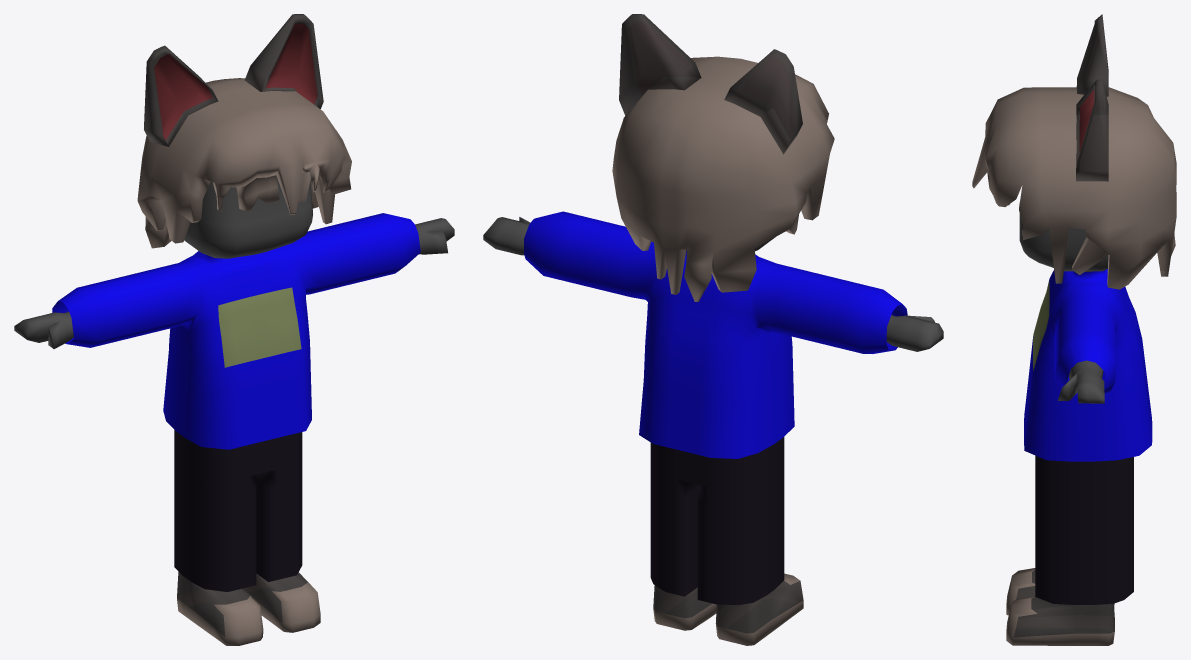
The model's file is tiny_cat_person.fbx.
The picture shows the model from 3 angles, left to right: view 1: azimuth 30°, elevation 25°; view 2: azimuth 150°, elevation 25°; view 3: azimuth 270°, elevation 25°; orthographic projection. The views are drawn at different scales.
Parts seen in each view (by area): view 1: coat1, hair5, pants2, Ears, base_character_upperBody, base_character_boots.001; view 2: coat1, hair5, pants2, Ears, base_character_boots.001, base_character_upperBody; view 3: hair5, coat1, pants2, base_character_boots.001, Ears, base_character_upperBody.
Boxes of the visible parts, bbox=[...] form: coat1: bbox=[52, 213, 420, 449]; hair5: bbox=[137, 78, 351, 248]; pants2: bbox=[174, 430, 302, 591]; Ears: bbox=[144, 14, 323, 146]; base_character_upperBody: bbox=[14, 175, 454, 348]; base_character_boots.001: bbox=[177, 571, 320, 645]; coat1: bbox=[524, 211, 907, 458]; hair5: bbox=[612, 56, 834, 301]; pants2: bbox=[650, 437, 784, 604]; Ears: bbox=[619, 14, 802, 154]; base_character_boots.001: bbox=[653, 573, 803, 645]; base_character_upperBody: bbox=[483, 217, 943, 351]; hair5: bbox=[972, 87, 1176, 289]; coat1: bbox=[1024, 269, 1152, 461]; pants2: bbox=[1035, 455, 1133, 604]; base_character_boots.001: bbox=[1006, 568, 1114, 645]; Ears: bbox=[1076, 14, 1108, 181]; base_character_upperBody: bbox=[1019, 214, 1108, 403].
Bounding box in the file's own units: 1321 × 1690 × 546.
